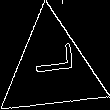L_W: (27, 51, 77, 87)
